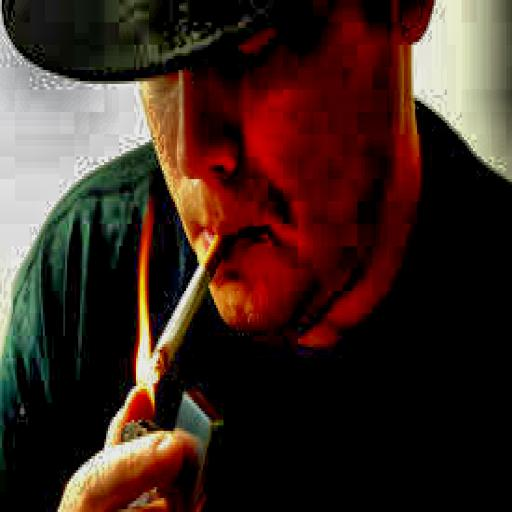fire: (125, 230, 171, 398)
